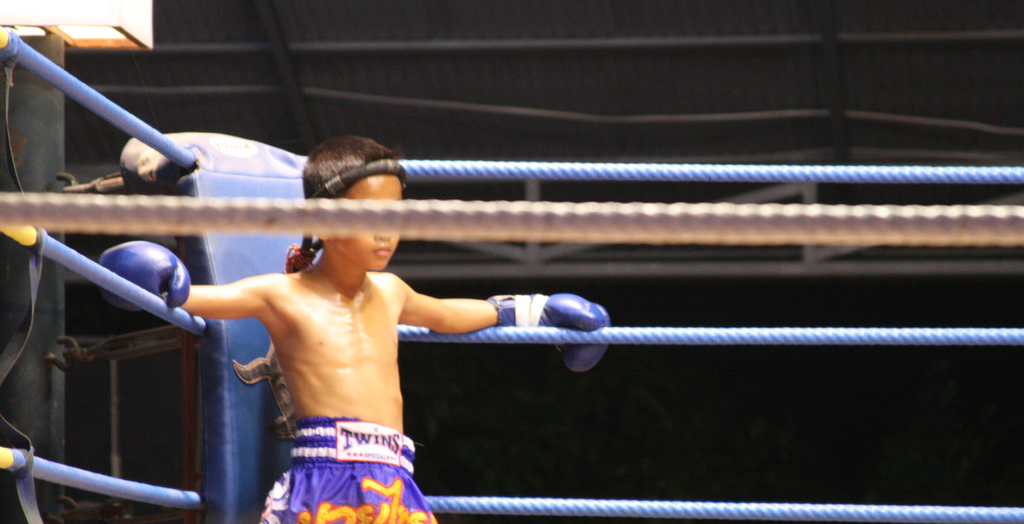Person: (98, 135, 610, 524)
